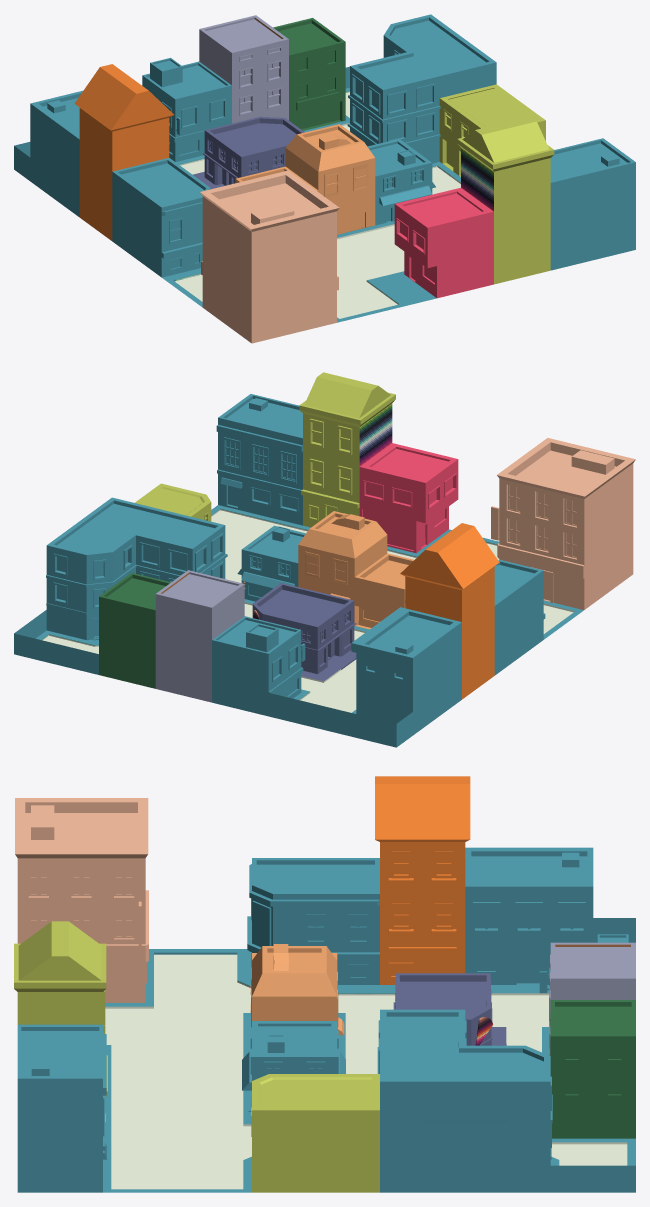
The model's file is RDR_Level_01_City_Finnal.fbx.
3 views of the same model, one above another, from view 1: azimuth 30°, elevation 25°; view 2: azimuth 150°, elevation 25°; view 3: azimuth 270°, elevation 25° (orthographic). The views are drawn at different scales.
Visible parts, largest first — view 1: Cube; view 2: Cube; view 3: Cube.
Part boxes in pixels (bbox=[...]): Cube: bbox=[14, 14, 635, 343]; Cube: bbox=[14, 372, 635, 747]; Cube: bbox=[14, 776, 635, 1192].
Size of the model in its own units: 210 by 75.13 by 224.
